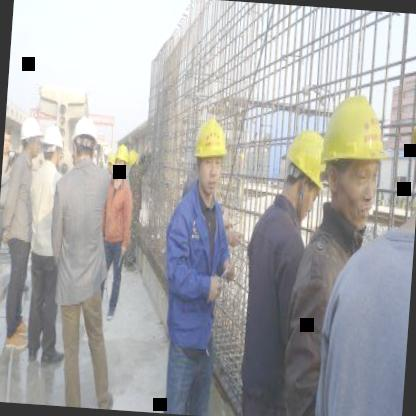helmet: (311, 92, 392, 228), (278, 120, 335, 221), (188, 106, 233, 201), (69, 118, 101, 166), (19, 114, 43, 160), (40, 124, 66, 166), (111, 138, 130, 184), (128, 146, 139, 175)
